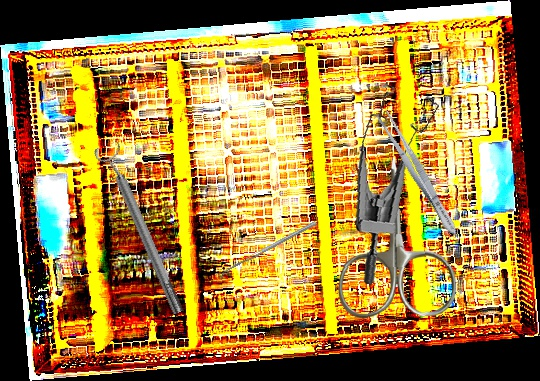Dressing Forceps: (373, 107, 463, 239)
Fixation Ring: (91, 138, 192, 320)
Iris Scissors: (334, 157, 458, 319)
Spatula Surgical: (217, 220, 319, 281)
Speculum: (338, 78, 460, 285)
